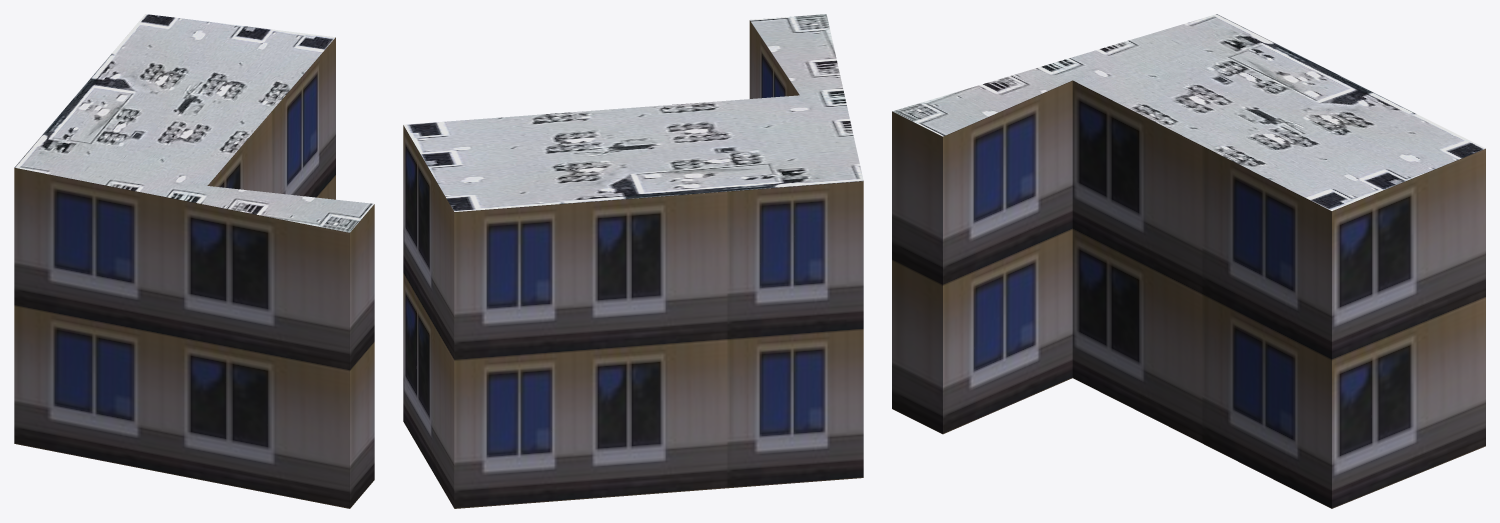
The model's file is ResTex__3936.fbx.
3 views of the same model, side by side, from view 1: azimuth 30°, elevation 25°; view 2: azimuth 150°, elevation 25°; view 3: azimuth 270°, elevation 25° (orthographic). The views are drawn at different scales.
Parts seen in each view (by area): view 1: CityEngineMaterial_5_m, CityEngineMaterial_4_m; view 2: CityEngineMaterial_5_m, CityEngineMaterial_4_m; view 3: CityEngineMaterial_5_m, CityEngineMaterial_4_m.
Boxes of the visible parts, <box> form: CityEngineMaterial_5_m: <box>14,37,374,508</box>; CityEngineMaterial_4_m: <box>14,14,374,232</box>; CityEngineMaterial_5_m: <box>403,20,863,508</box>; CityEngineMaterial_4_m: <box>403,14,863,211</box>; CityEngineMaterial_5_m: <box>892,80,1485,508</box>; CityEngineMaterial_4_m: <box>892,14,1485,210</box>.
Bounding box in the file's own units: 8.53 × 6 × 10.85.
Materials: 2 (2 with a texture image).
